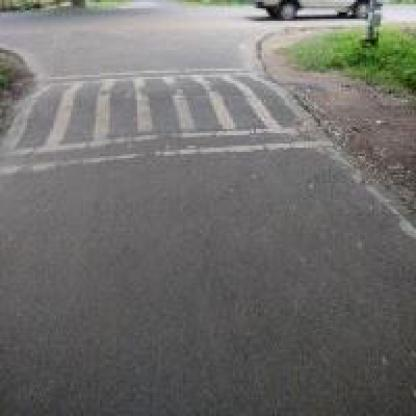Speed Bump: (0, 66, 321, 182)
